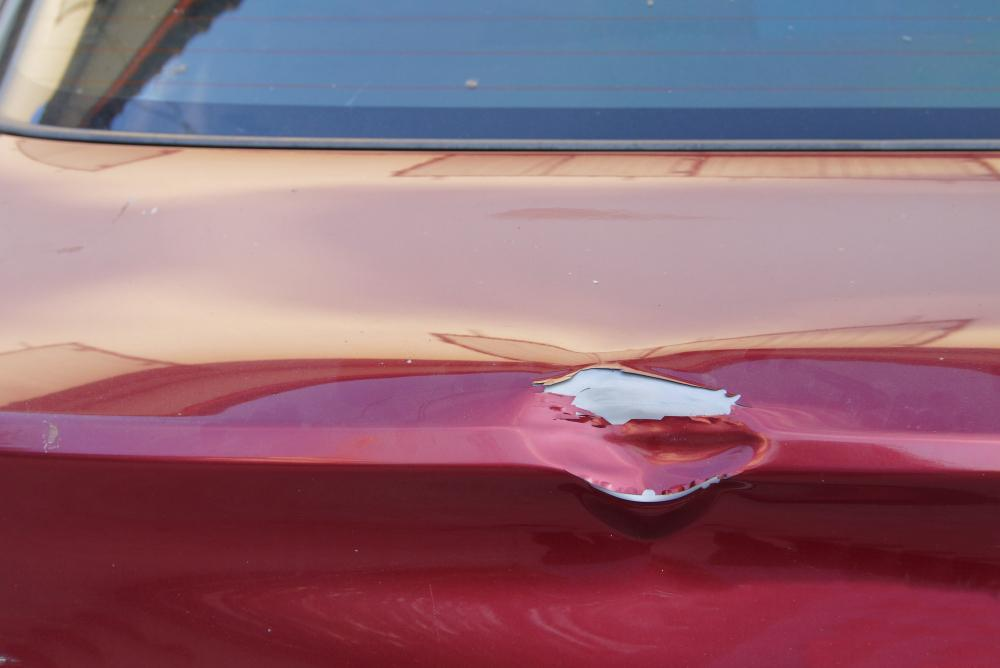dent: (520, 364, 771, 501)
